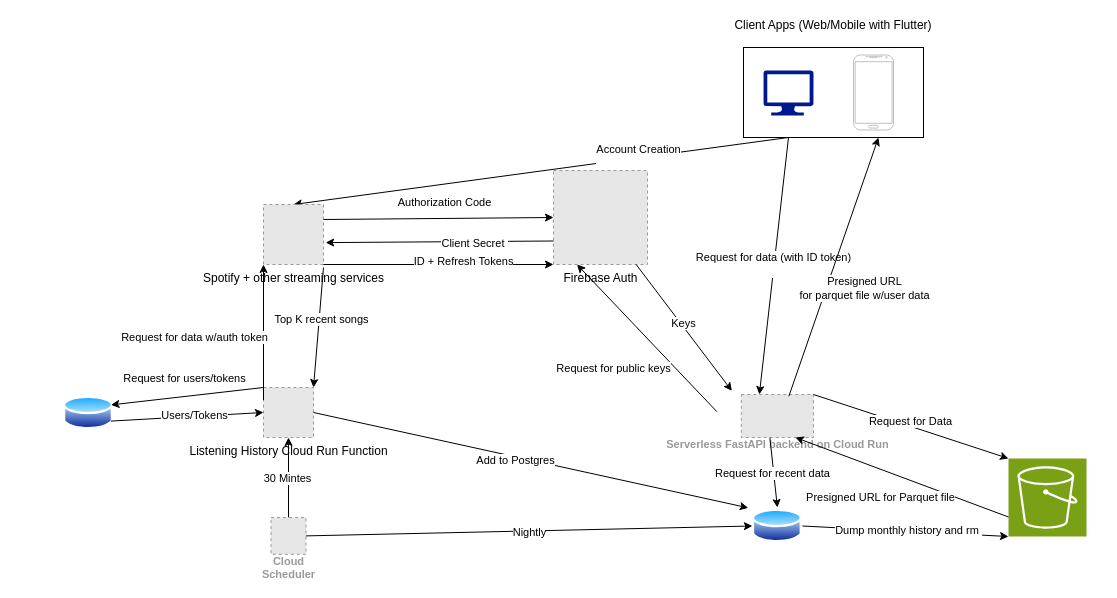
Some shapes in this 1117 by 598 pixel diagram are drawn without their labels. Grey dashed boxes stand in for pictures. Here are the shapes that lost their labels. From the top down, the centre of each, then its label:
(88,412): NoSQL Firestore Users Db
(1047,497): Google Cloud Store
(777,525): Postgres Db w/ one month of listening history
